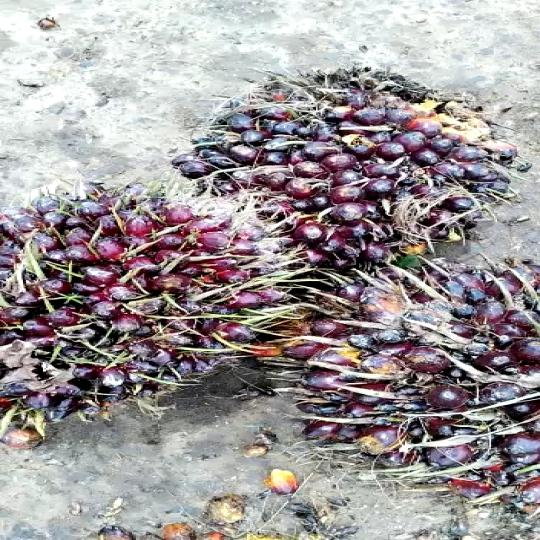kurang masak: (0, 173, 285, 455), (176, 50, 524, 278), (278, 245, 540, 513)
